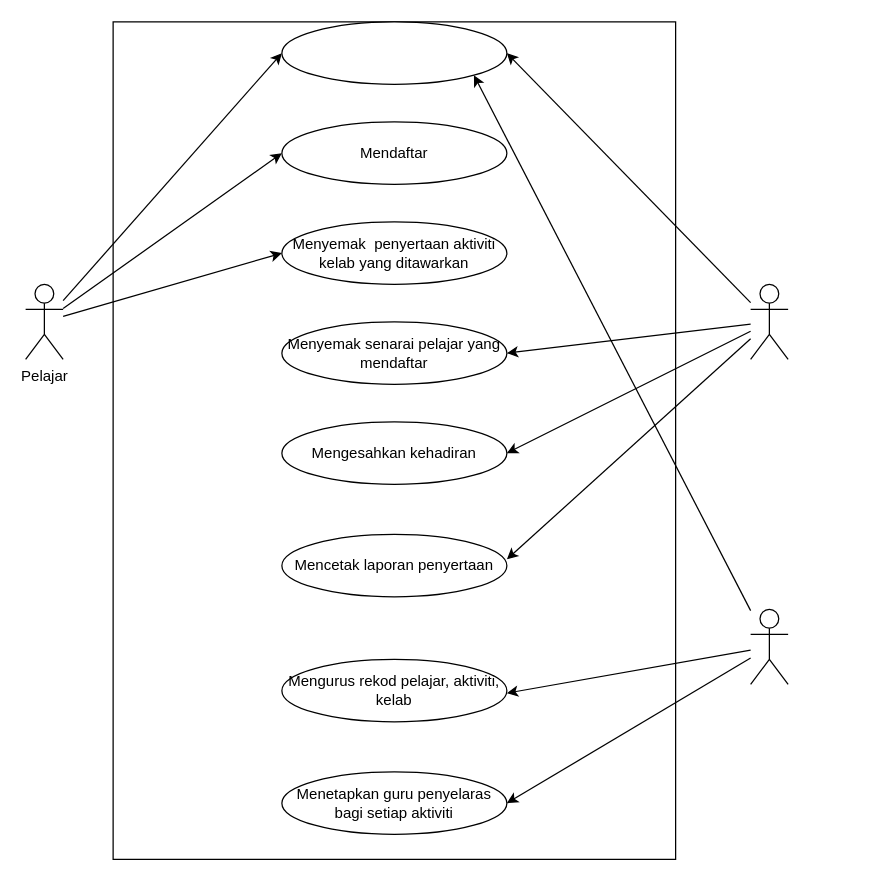
This 869x881 diagram has some shape labels left out. Here are the shapes that lost their labels. From the top down, the centre of each, then its label:
At (394,52): "Log Masuk".
At (768,321): "Guru Penyelaras Kelab".
At (768,646): "Pentadbir Sistem".
